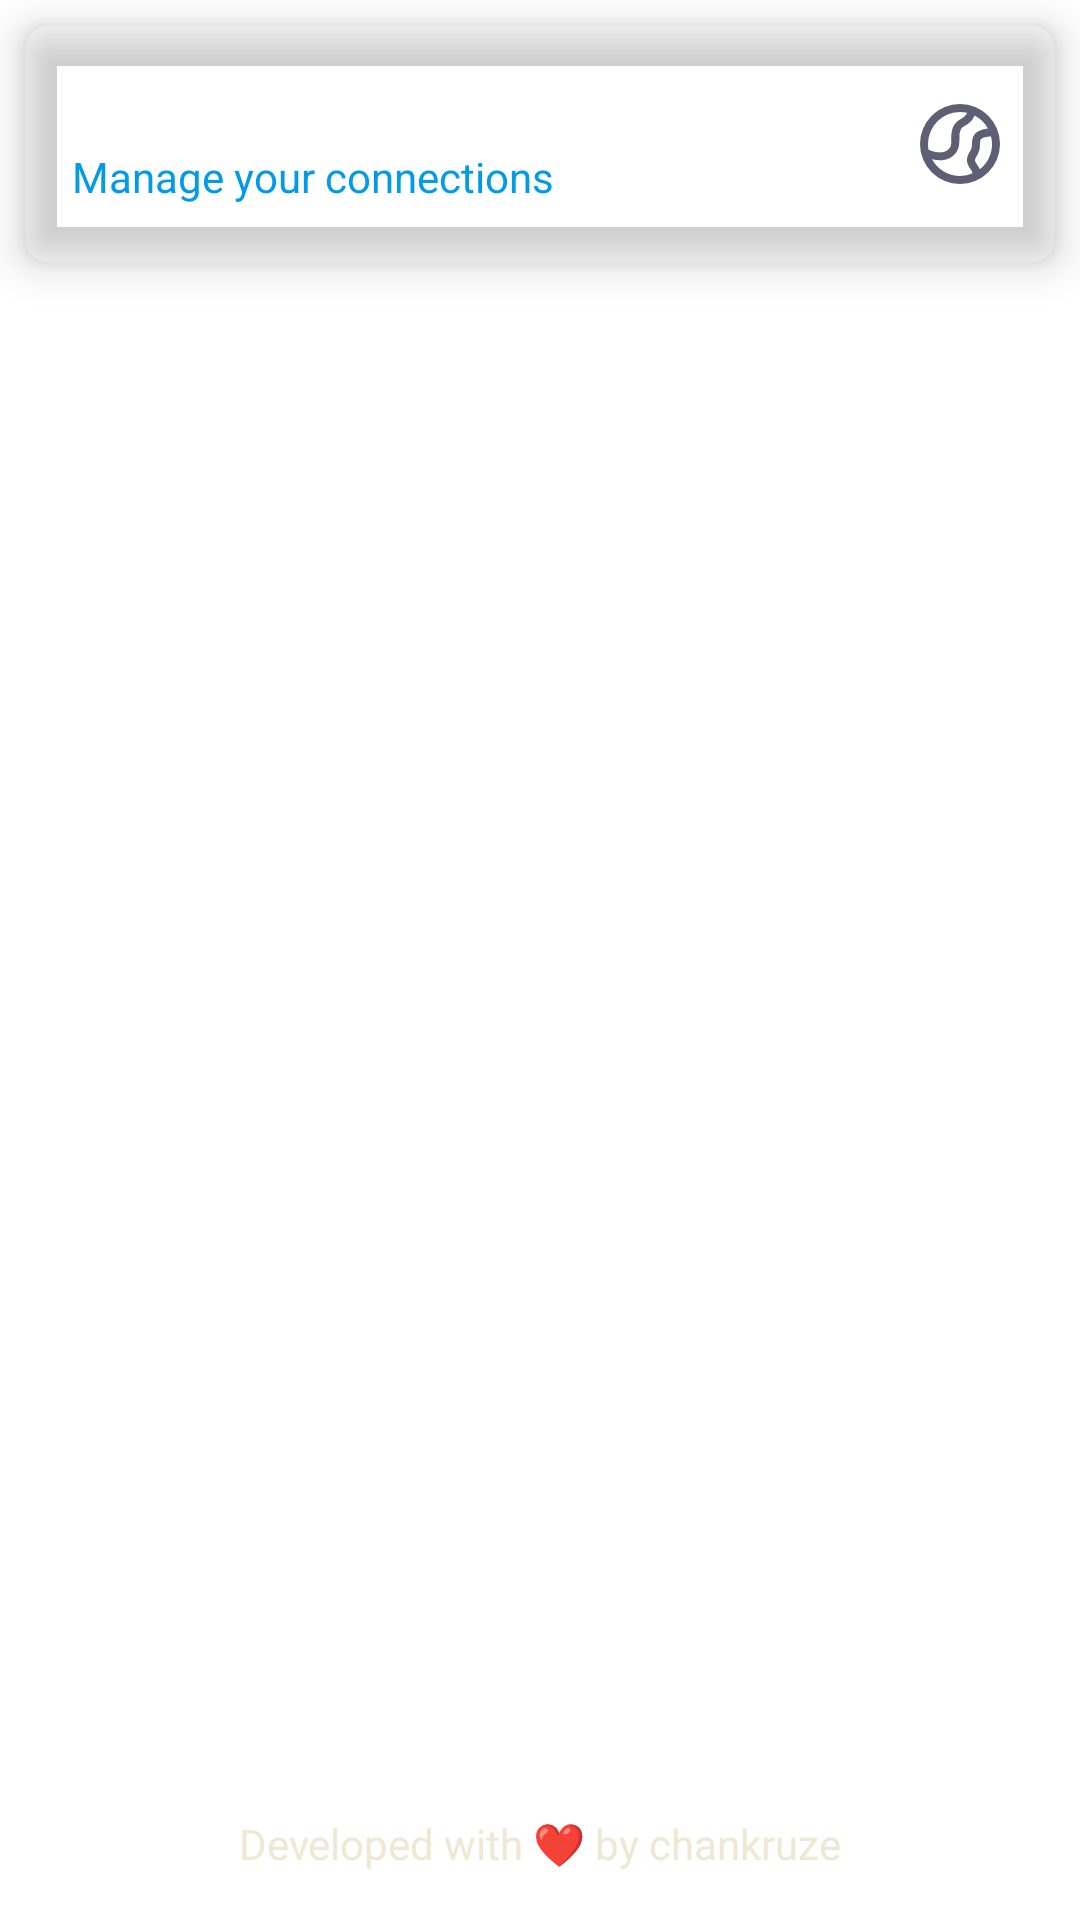

Icons on this 1080w x 1920h Android screen, each with its box as bbox=(x1, y1, x2, y2):
globe: bbox=(920, 104, 1000, 184)
